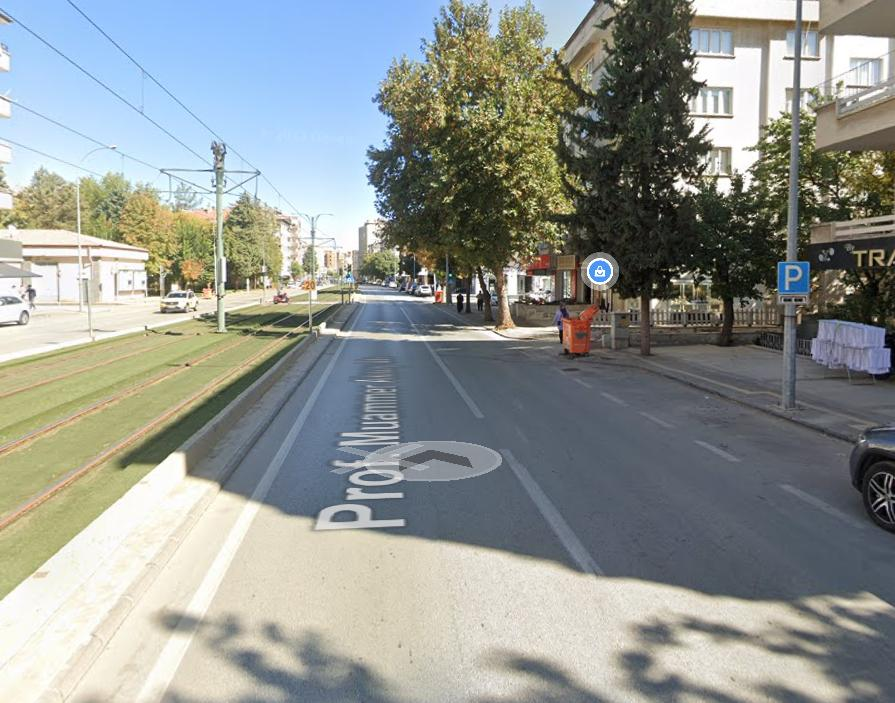park: (781, 262, 807, 291)
